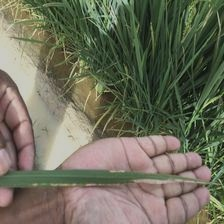Leaf_Blast: (48, 165, 219, 199)
